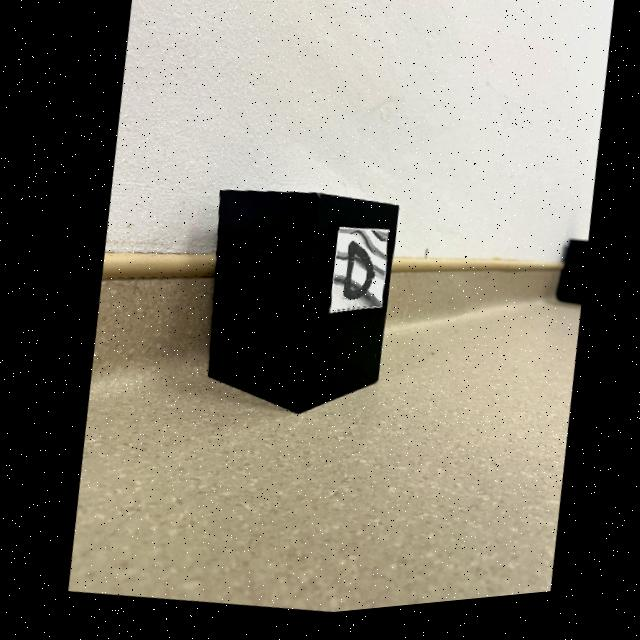D: (339, 247, 370, 306)
